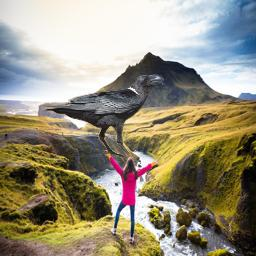Crow: (39, 73, 164, 157)
